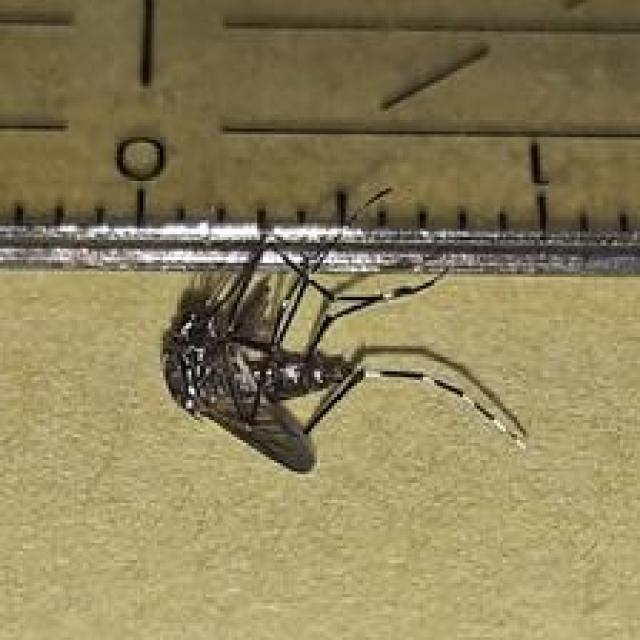Aedes albopictus: (159, 184, 530, 476)
